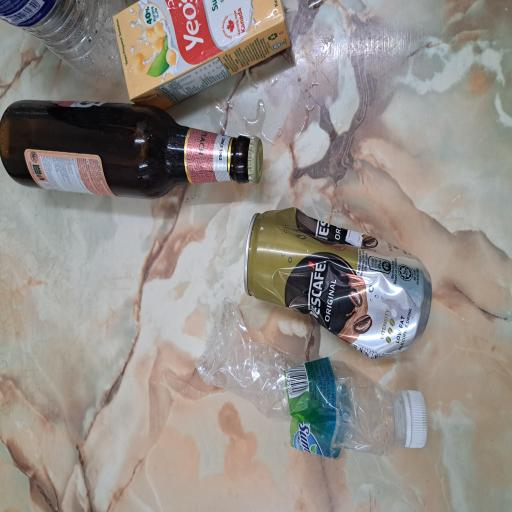can: (115, 317, 227, 512)
drink carton: (310, 147, 384, 384)
glass bottle: (240, 0, 312, 349)
plastic bottle: (40, 257, 153, 512), (327, 0, 384, 201)
